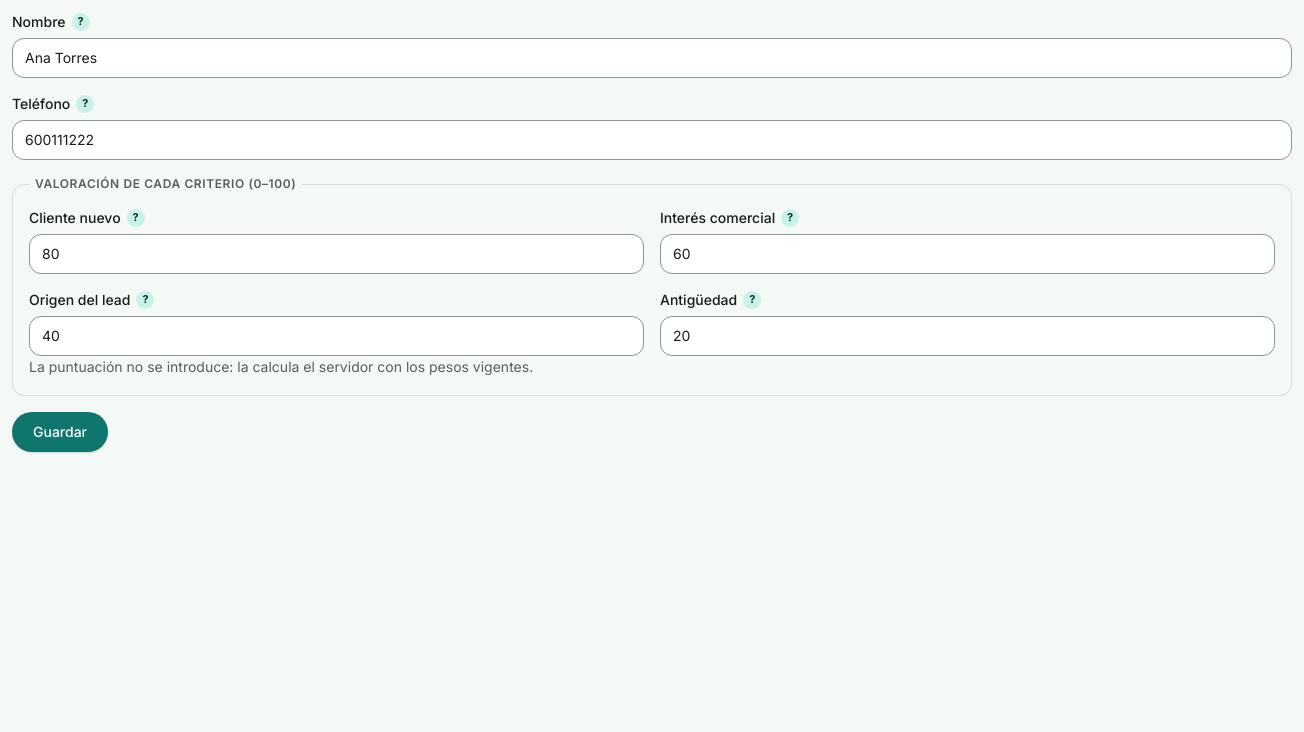
Scenario: LeadForm › señala los campos que el servidor rechaza
Click the button "Guardar" at (60, 432), box [12, 412, 108, 452]
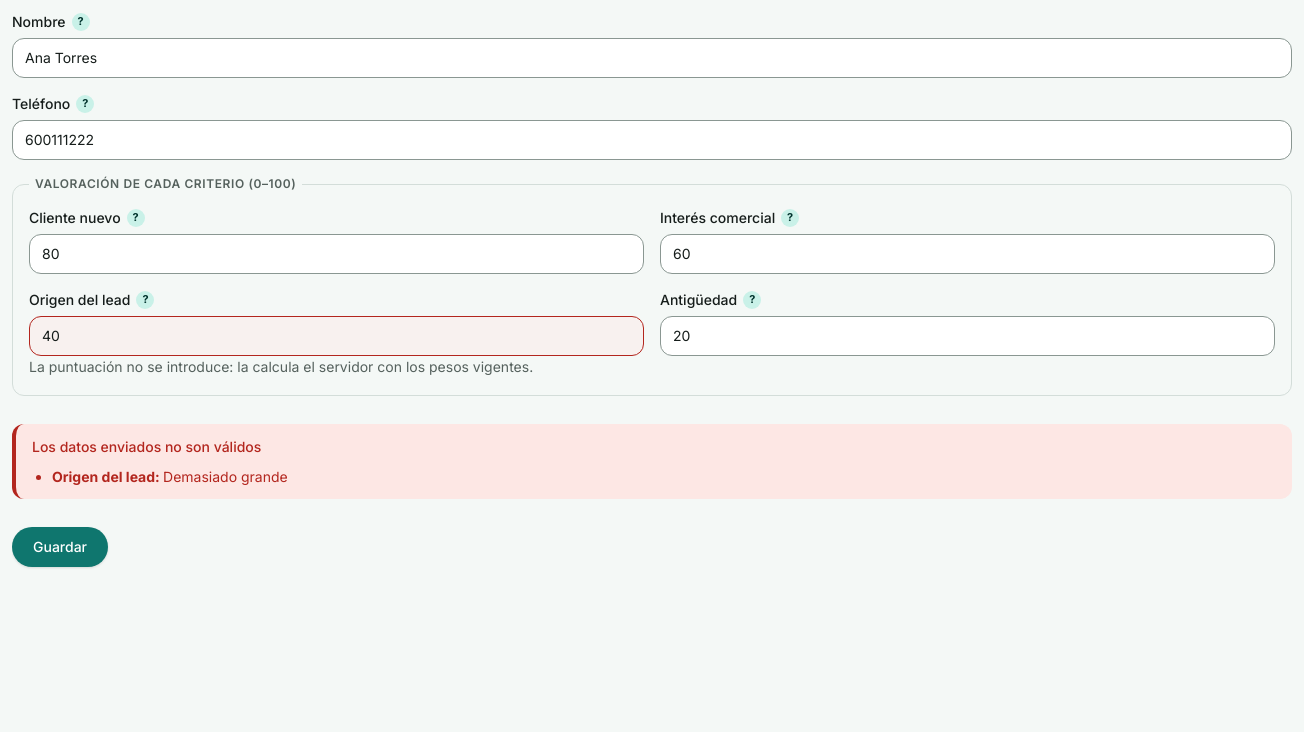
Expected: the message "Los datos enviados no son válidos Origen del lead: Demasiado grande" is shown, [12, 424, 1292, 499]
